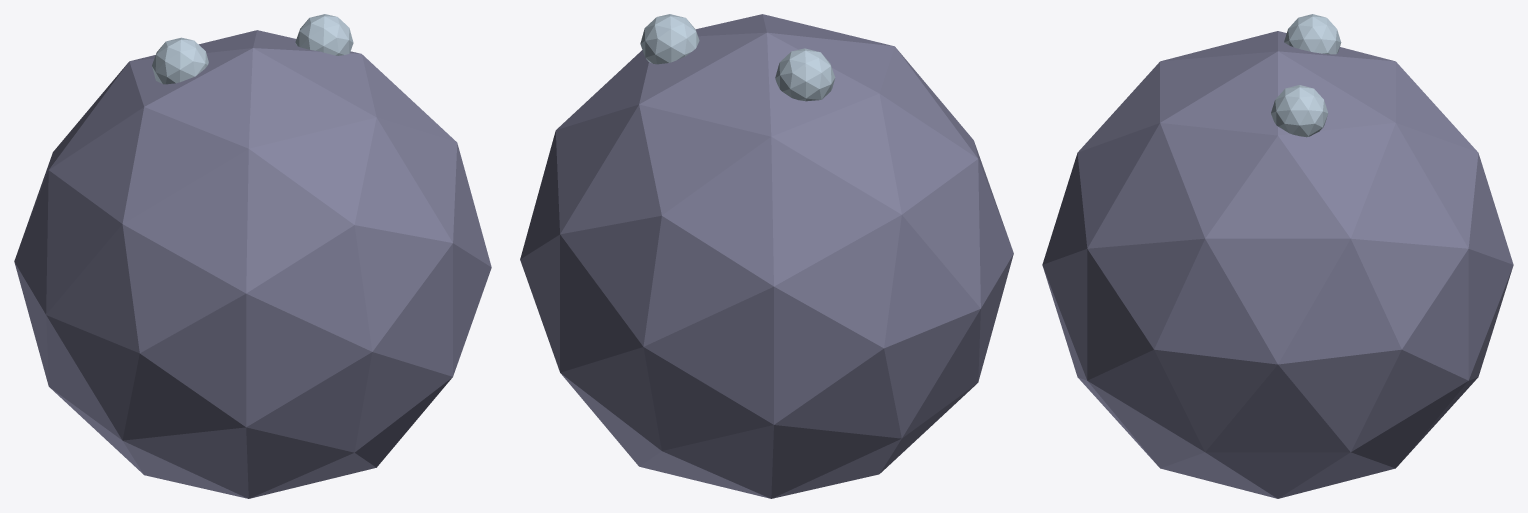
The model's file is storm_horror.glb.
The picture shows the model from 3 angles, left to right: view 1: azimuth 30°, elevation 25°; view 2: azimuth 150°, elevation 25°; view 3: azimuth 270°, elevation 25°; orthographic projection. The views are drawn at different scales.
Visible parts, largest first — view 1: geometry_0; view 2: geometry_0; view 3: geometry_0.
Part boxes in pixels (bbox=[...]): geometry_0: bbox=[14, 14, 491, 498]; geometry_0: bbox=[520, 14, 1013, 498]; geometry_0: bbox=[1042, 14, 1513, 498].
Size of the model in its own units: 0.82 by 0.8365 by 0.82.
